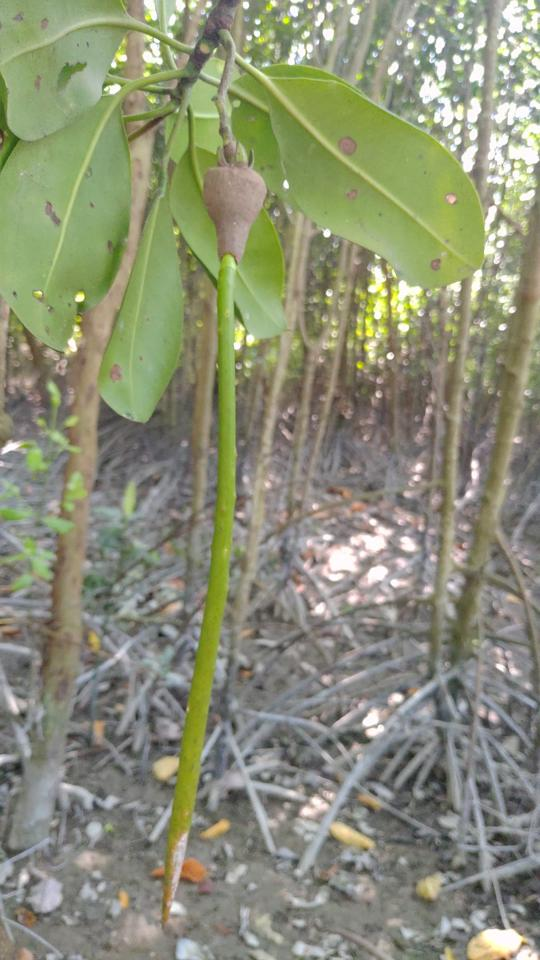setengah matang: (146, 138, 282, 944)
